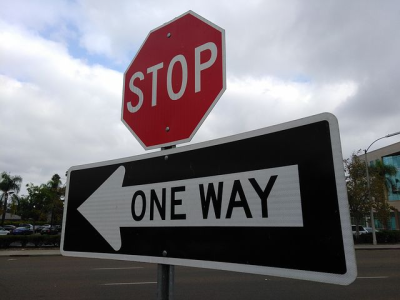stop: (125, 32, 220, 126)
